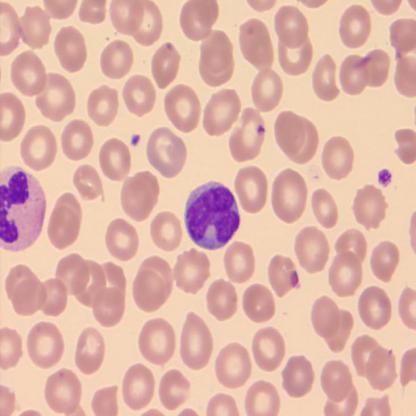Monocyte: (183, 177, 242, 251)
